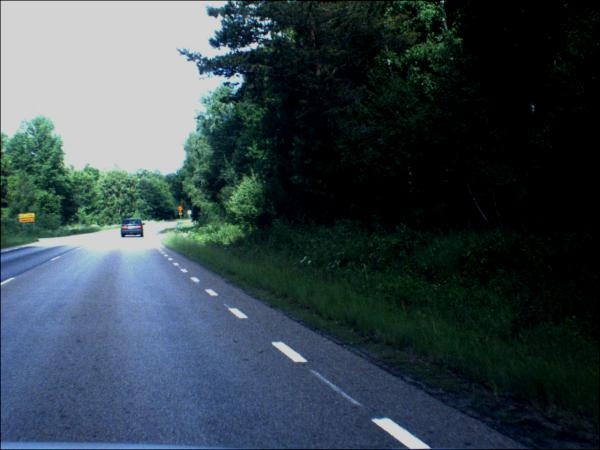80_SIGN: (179, 207, 185, 213)
PRIORITY_ROAD: (180, 213, 186, 218)
